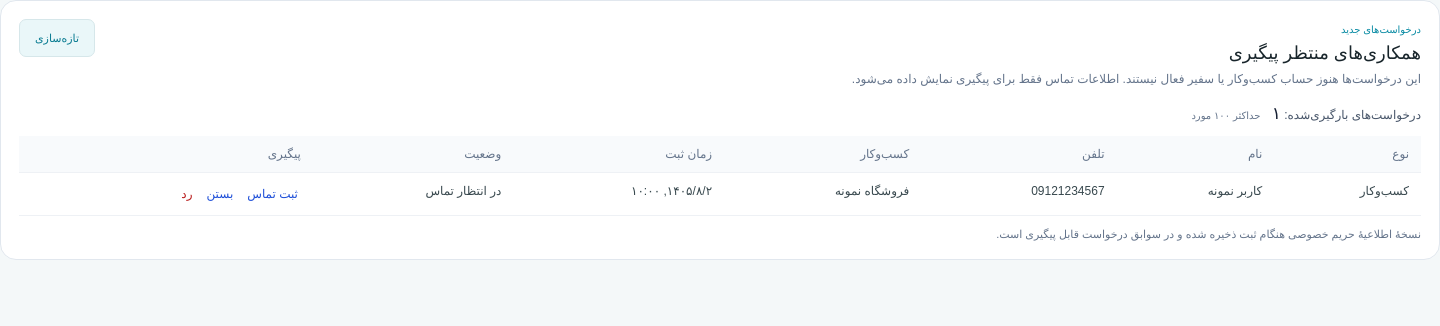
Test: PublicRegistrationQueue › loads decrypted applications and records an operator contact attempt
The image size is (1440, 326).
expect the text "کاربر نمونه" is shown: met, box 1117,172 -> 1274,215
What coordinates should you click on to do the following:
click the button "ثبت تماس"
I would click on:
 (273, 194)
Its box is 244,184 -> 301,204.
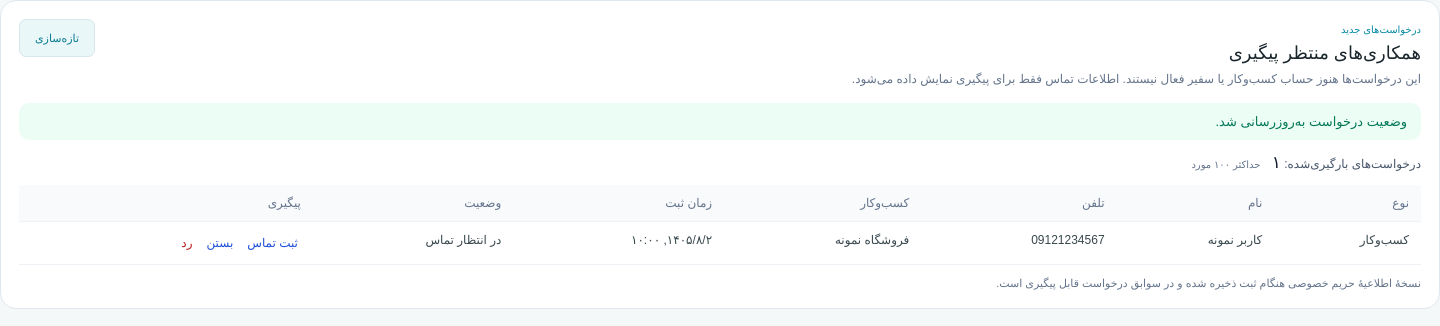
expect the message reads "وضعیت درخواست به‌روزرسانی شد.": met, box 1216,114 -> 1407,129
